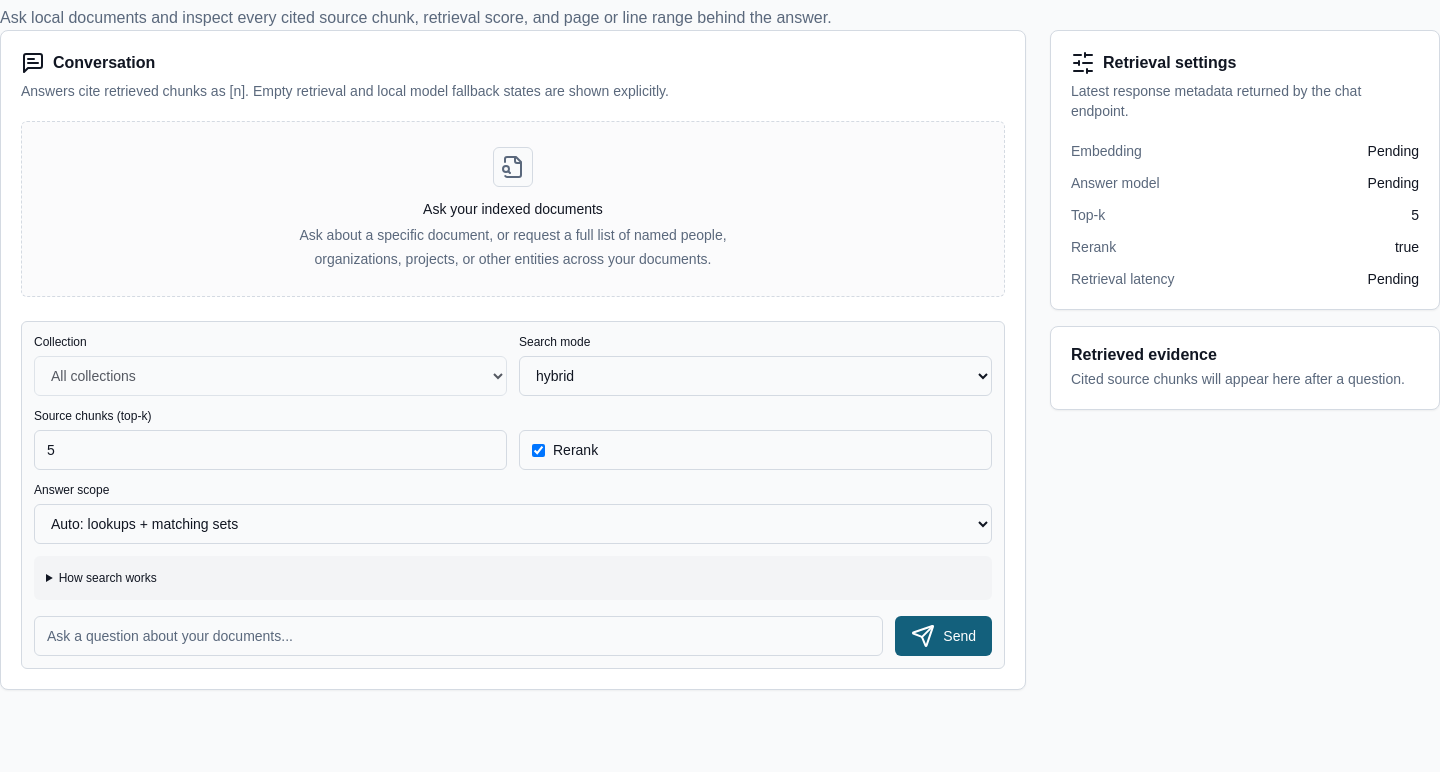
Test case: chat performance controls › explains controls and defaults to fast chat without launching a review
The width and height of the screenshot is (1440, 772).
Expected: the dropdown labelled "Answer scope" shows "Auto: lookups + matching sets", [34,504,992,544]
Click the heading "How search works" at [108, 578], box [59,571,157,585]
(page scrolled)
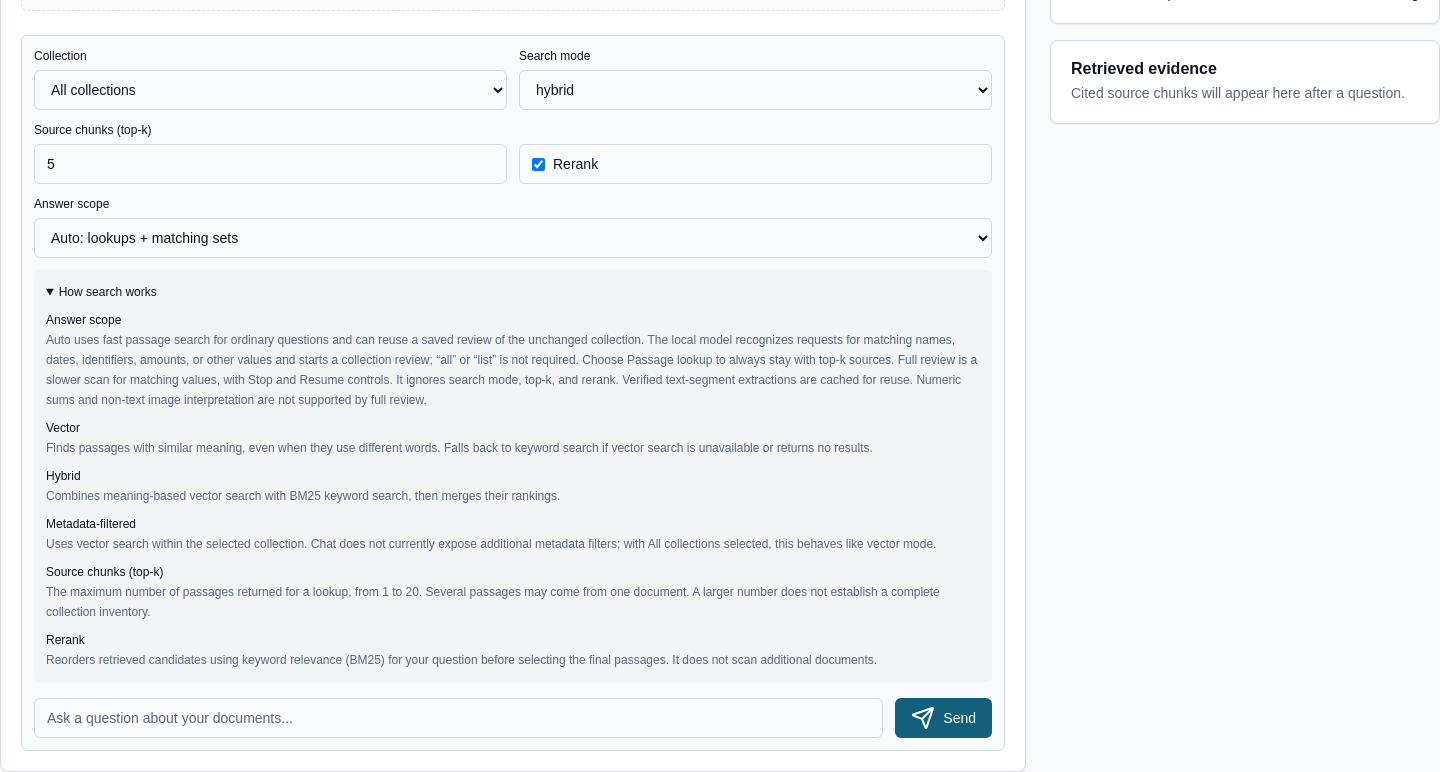
Expected: the text "“all” or “list” is not required" is shown, [46,333,977,407]
Expected: the text "does not currently expose additional metadata filters" is shown, [46,537,936,551]
Expected: the text "Combines meaning-based vector search" is shown, [46,489,560,503]
